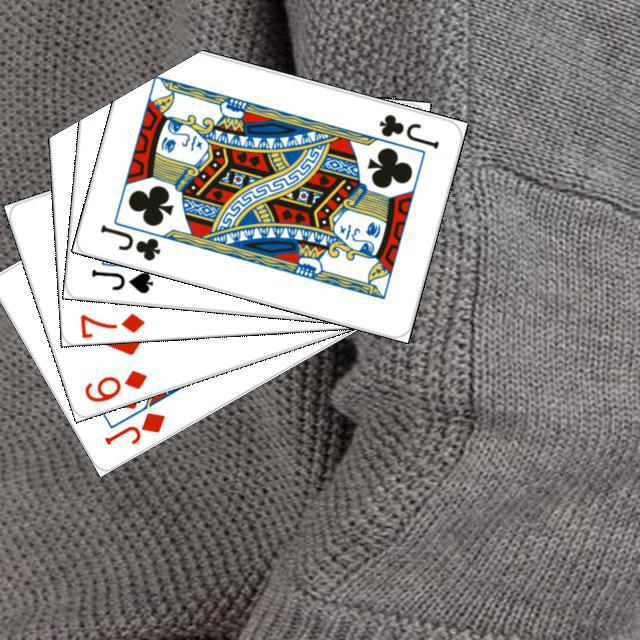6d: (79, 365, 149, 404)
7d: (75, 308, 146, 338)
Jc: (95, 219, 162, 263), (373, 109, 441, 151)
Jd: (99, 407, 167, 447)
Js: (86, 264, 155, 295)
